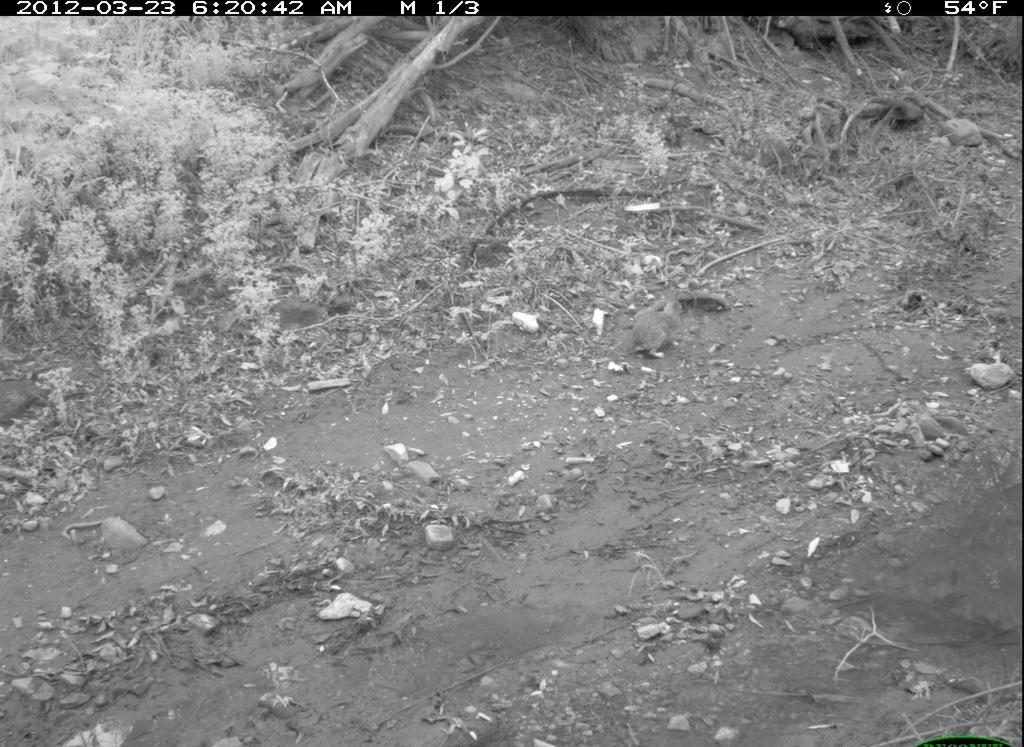rabbit: (628, 280, 696, 367)
